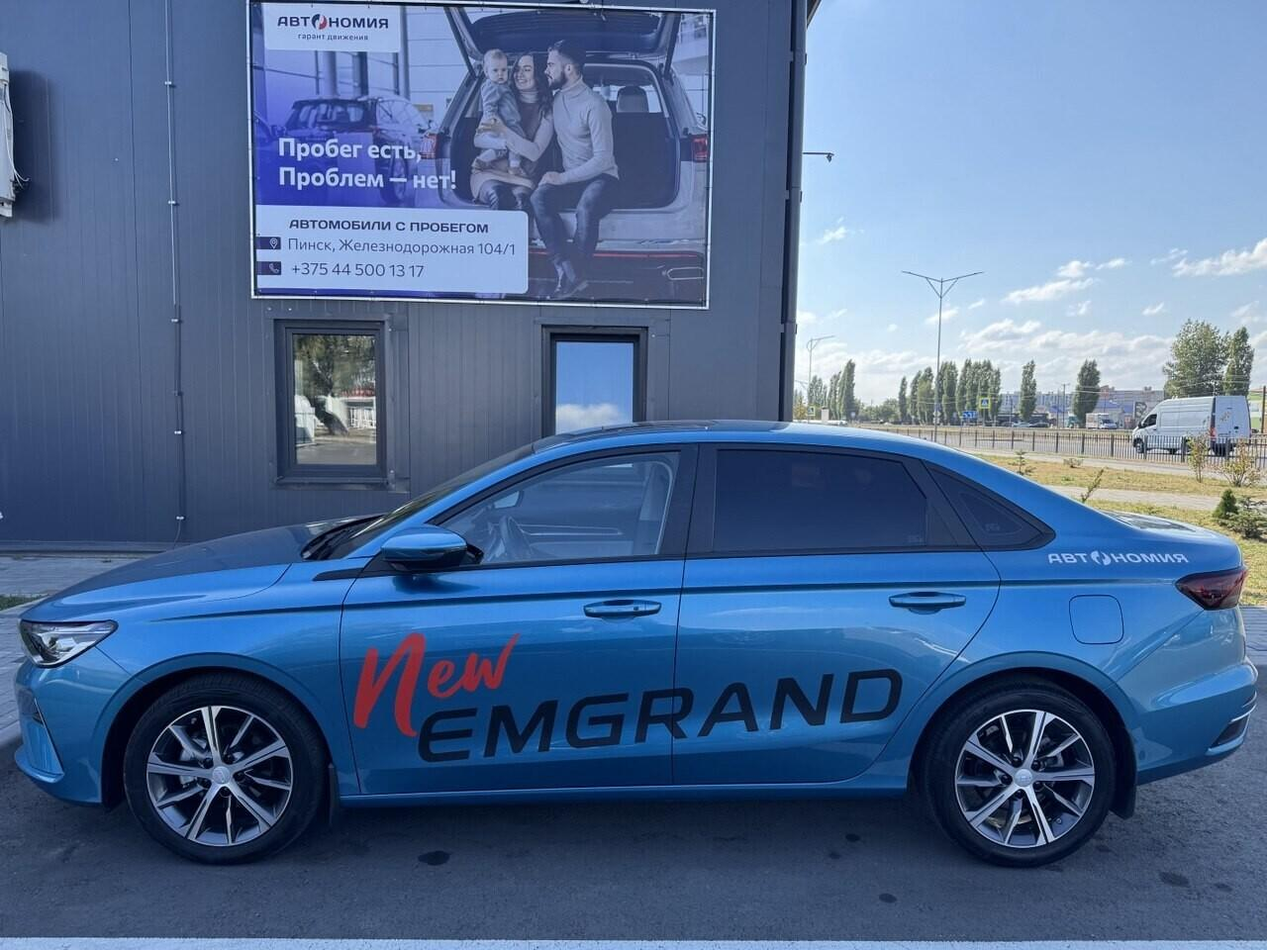Emgrand_2021: (0, 416, 1251, 875)
